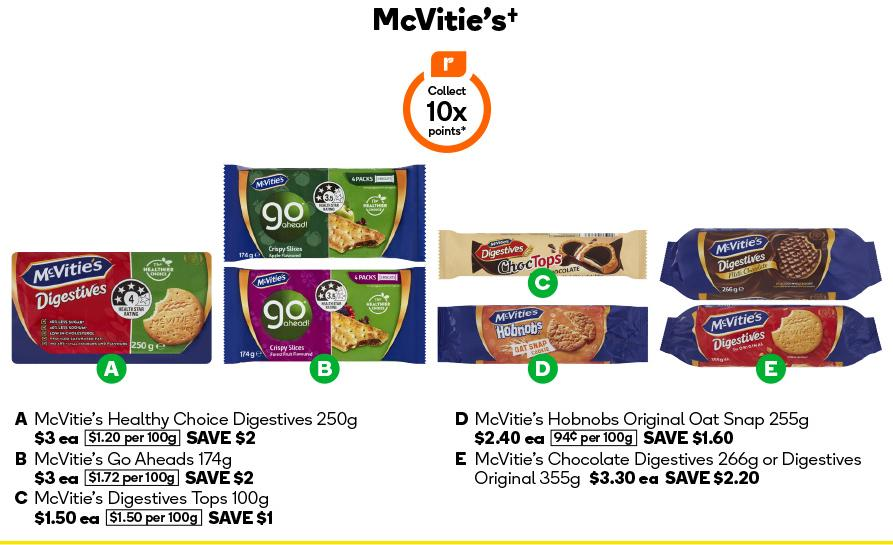description_block: (33, 402, 372, 432), (472, 406, 820, 433), (469, 448, 868, 468), (34, 445, 261, 471), (31, 489, 281, 507)
price_main: (466, 423, 550, 447), (30, 504, 101, 528), (579, 469, 662, 489), (29, 464, 84, 487), (29, 426, 83, 448)
product_image_block: (221, 149, 428, 386), (661, 219, 884, 392), (6, 228, 216, 386), (433, 302, 650, 392), (433, 211, 654, 298)
promo_text_block: (664, 464, 772, 491), (636, 424, 748, 449), (179, 426, 263, 448), (181, 464, 260, 487), (206, 507, 287, 528)
unit_price_block: (84, 428, 182, 449), (549, 424, 638, 447), (84, 467, 180, 487), (104, 509, 202, 525)
